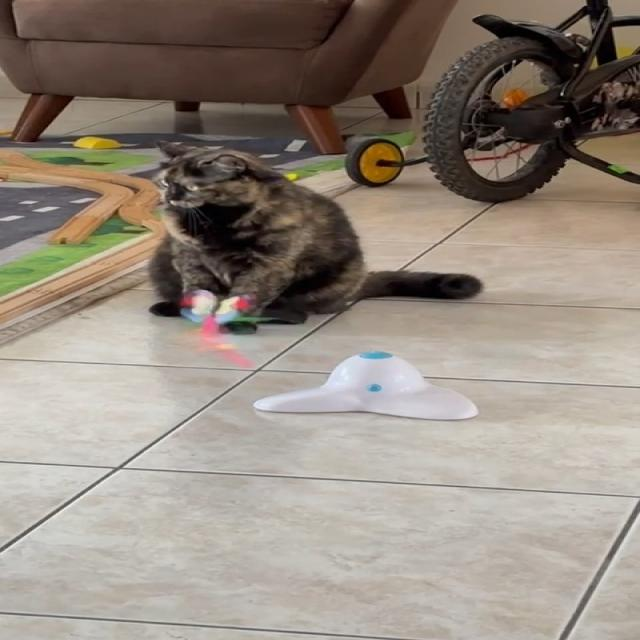authorized: (145, 139, 483, 324)
